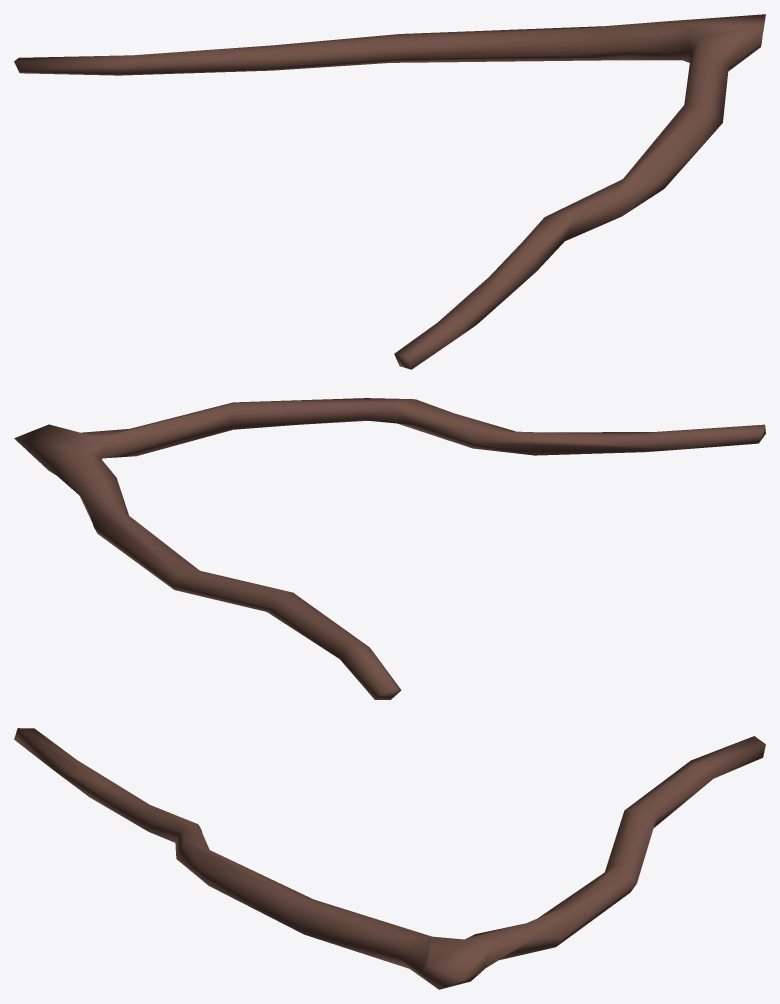
Rendered from deadwood_029.glb.
The picture shows the model from 3 angles, top to bottom: view 1: azimuth 30°, elevation 25°; view 2: azimuth 150°, elevation 25°; view 3: azimuth 270°, elevation 25°; orthographic projection. The views are drawn at different scales.
Parts seen in each view (by area): view 1: deadwood_029; view 2: deadwood_029; view 3: deadwood_029.
Boxes of the visible parts, bbox=[...] form: deadwood_029: bbox=[14, 14, 765, 369]; deadwood_029: bbox=[14, 398, 765, 699]; deadwood_029: bbox=[14, 728, 765, 989].
Bounding box in the file's own units: 1.97 × 0.1659 × 2.32.
Materials: 1 (1 with a texture image).
